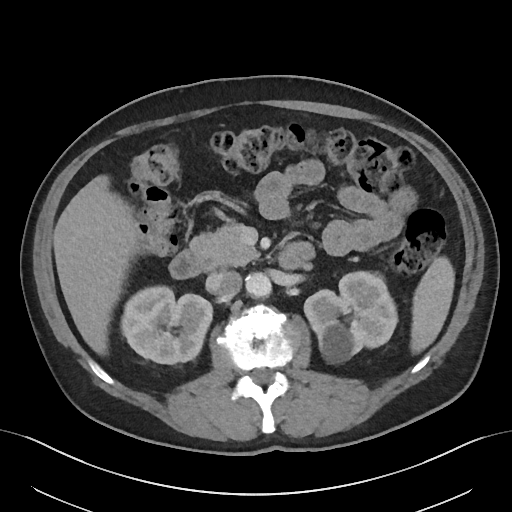Lesion: (319, 317, 356, 371)
